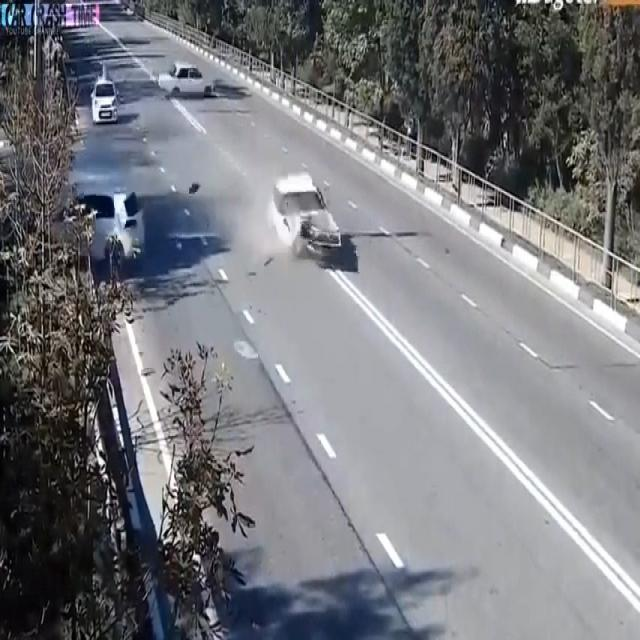Accident: (38, 134, 163, 283), (251, 140, 363, 288)
